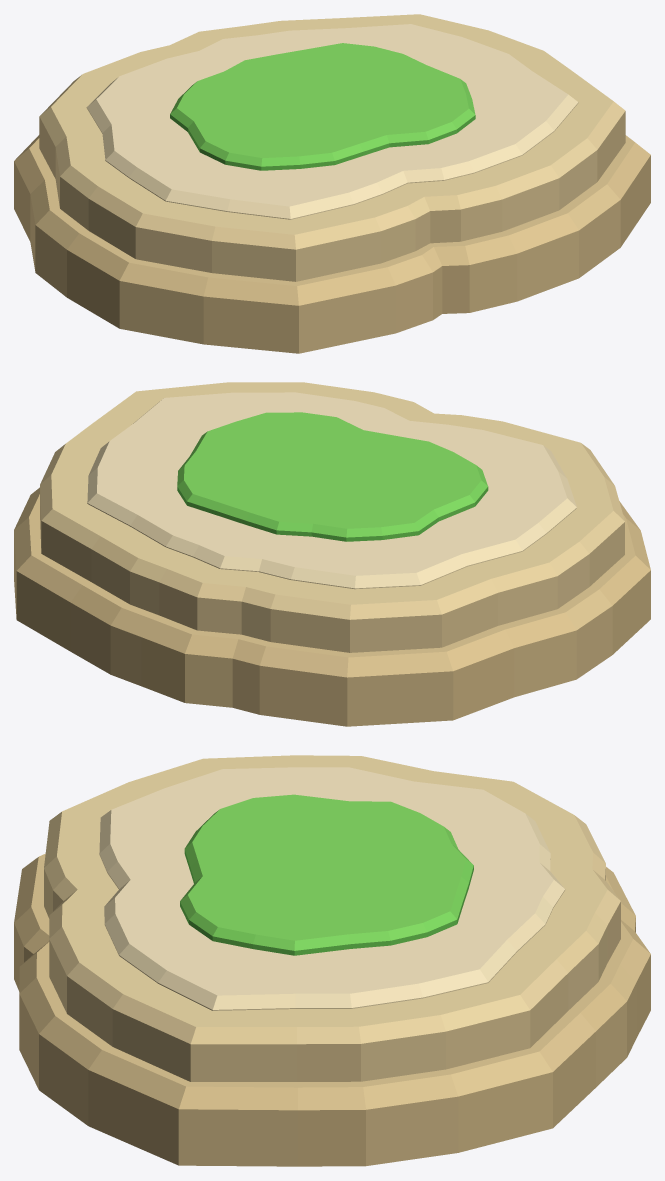
Rendered from Islet_0.glb.
3 views of the same model, one above another, from view 1: azimuth 30°, elevation 25°; view 2: azimuth 150°, elevation 25°; view 3: azimuth 270°, elevation 25° (orthographic). The views are drawn at different scales.
Visible parts, largest first — view 1: Islet_0; view 2: Islet_0; view 3: Islet_0.
Part boxes in pixels (x1,y1,x2,y2): Islet_0: [14, 14, 650, 353]; Islet_0: [14, 382, 650, 726]; Islet_0: [14, 755, 650, 1166].
Size of the model in its own units: 34 by 7.4 by 29.71.
Materials: 1 (1 with a texture image).
